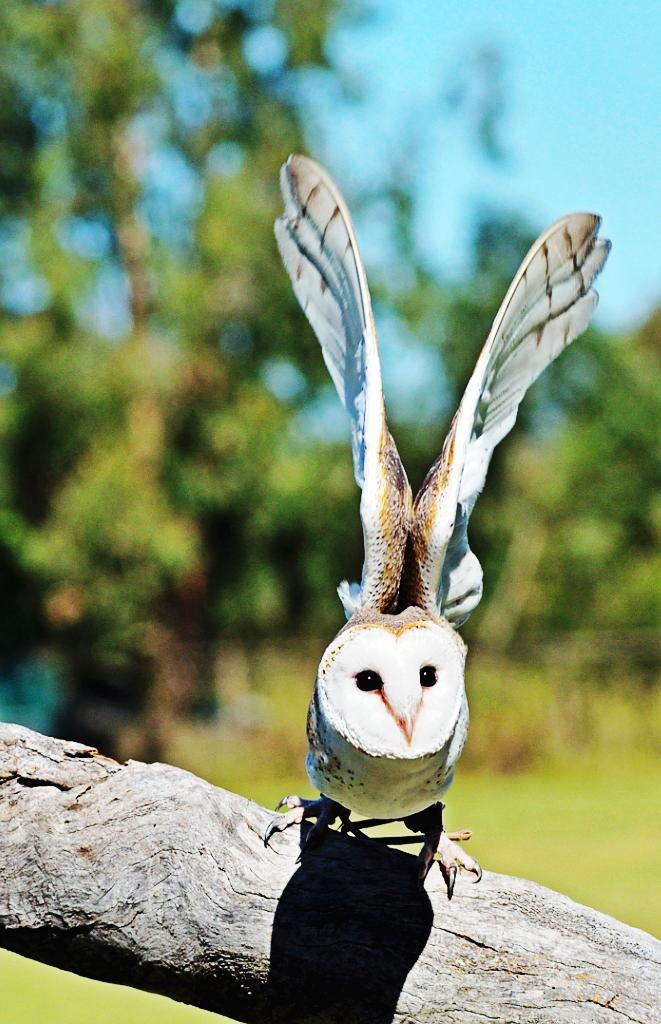Owl: (293, 285, 617, 860)
